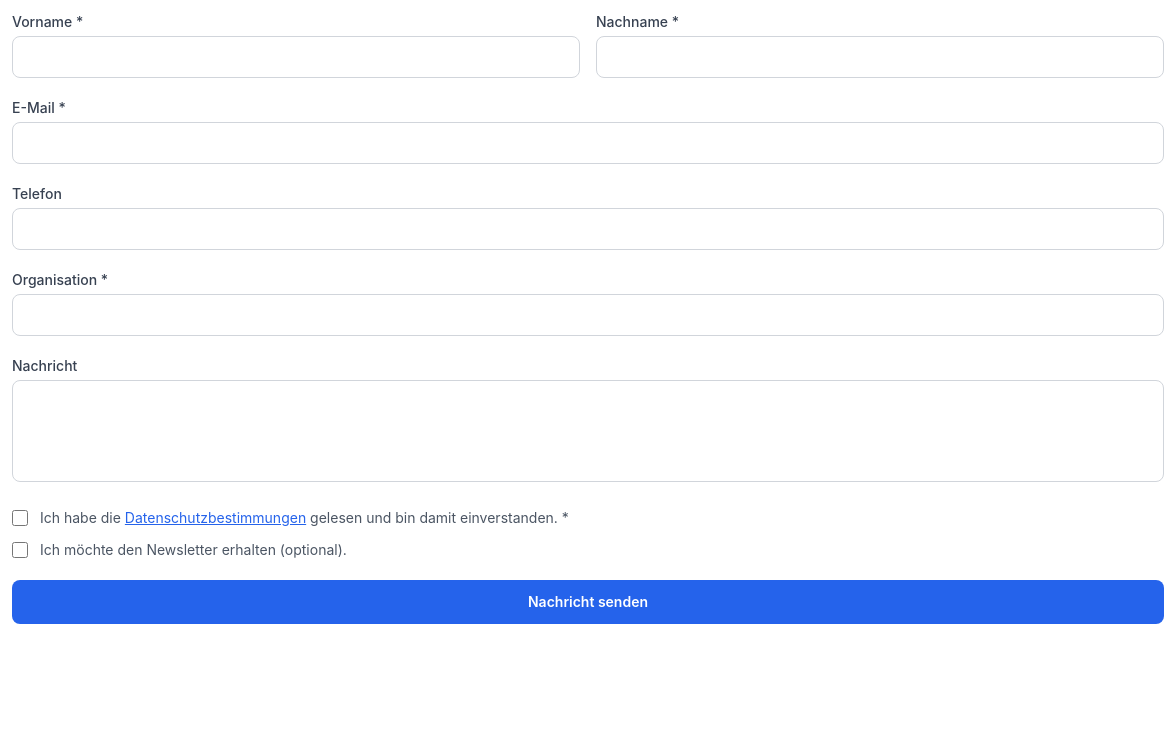
ContactForm › shows error when DSGVO checkbox is not checked
The image size is (1176, 732).
Type "Max" into the field labelled "Vorname *" at (296, 57), box [12, 36, 580, 78]
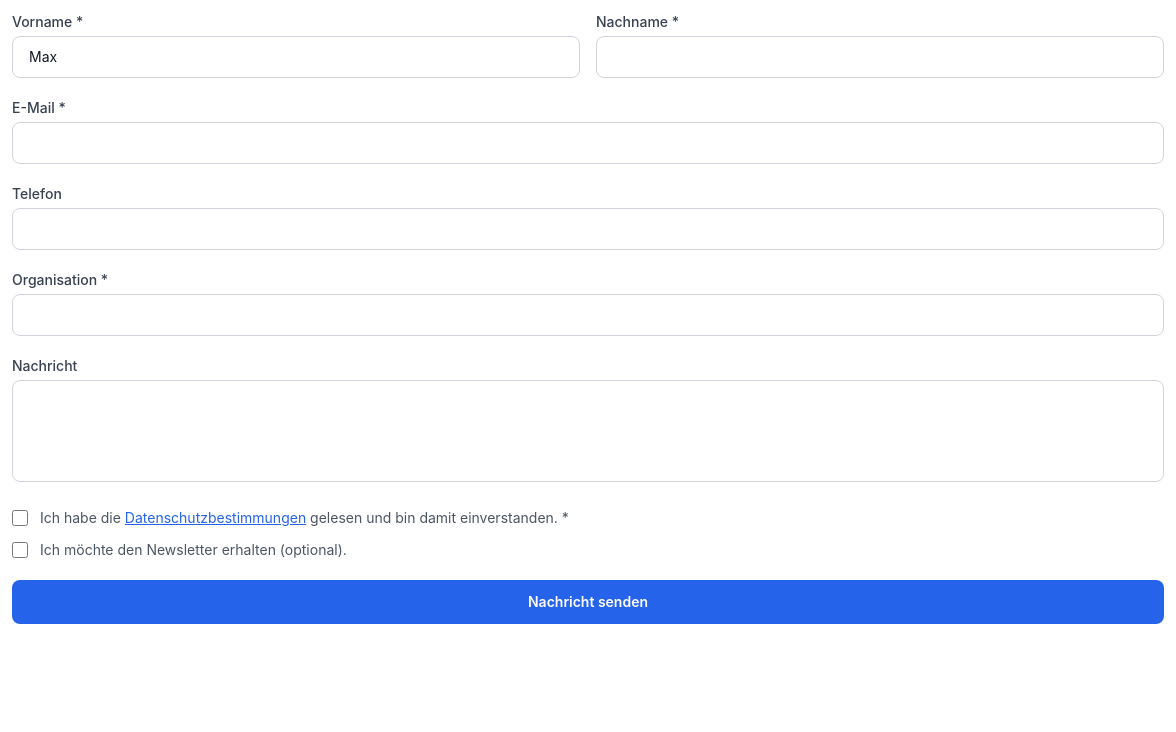
Type "Muster" into the field labelled "Nachname *" at (880, 57), box [596, 36, 1164, 78]
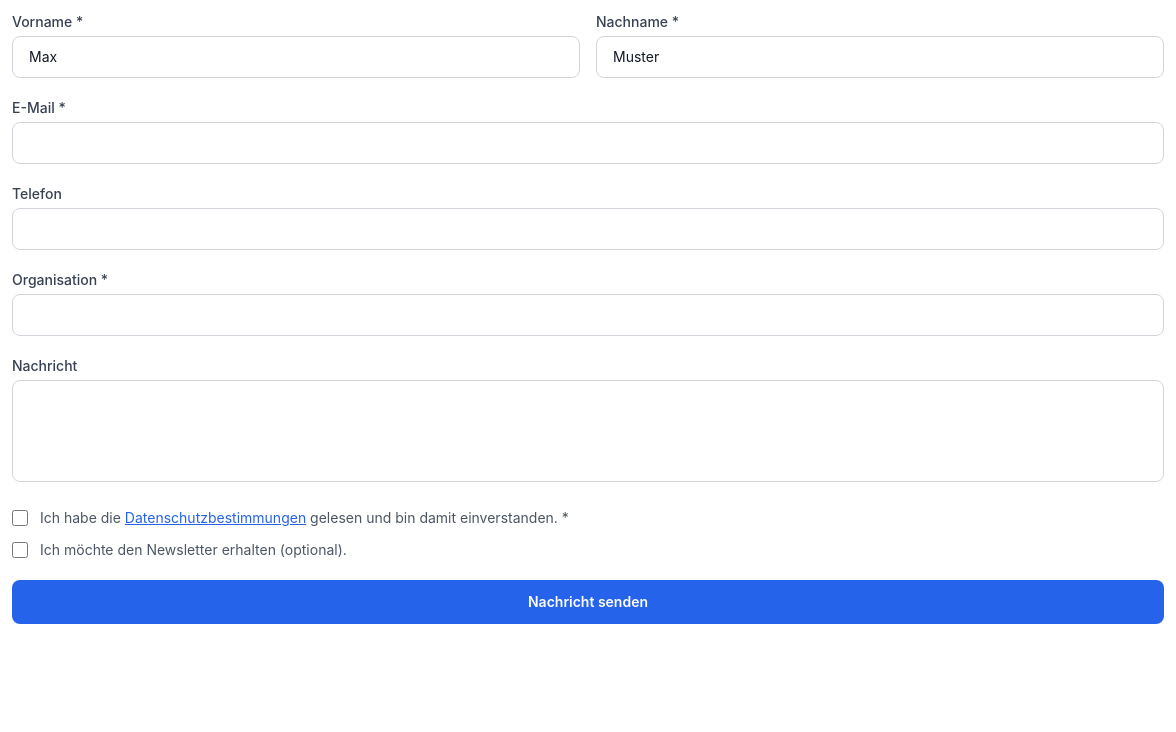
Type "max@test.de" into the field labelled "E-Mail *" at (588, 143), box [12, 122, 1164, 164]
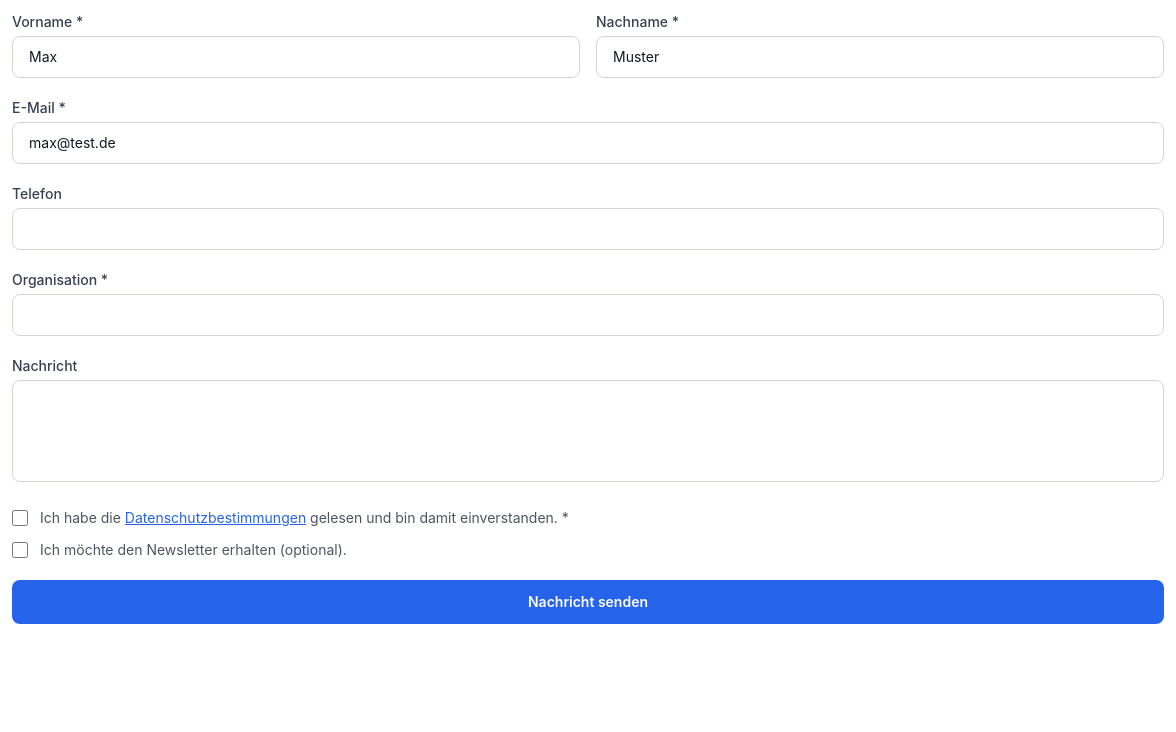
Type "Stadt" into the field labelled "Organisation *" at (588, 315), box [12, 294, 1164, 336]
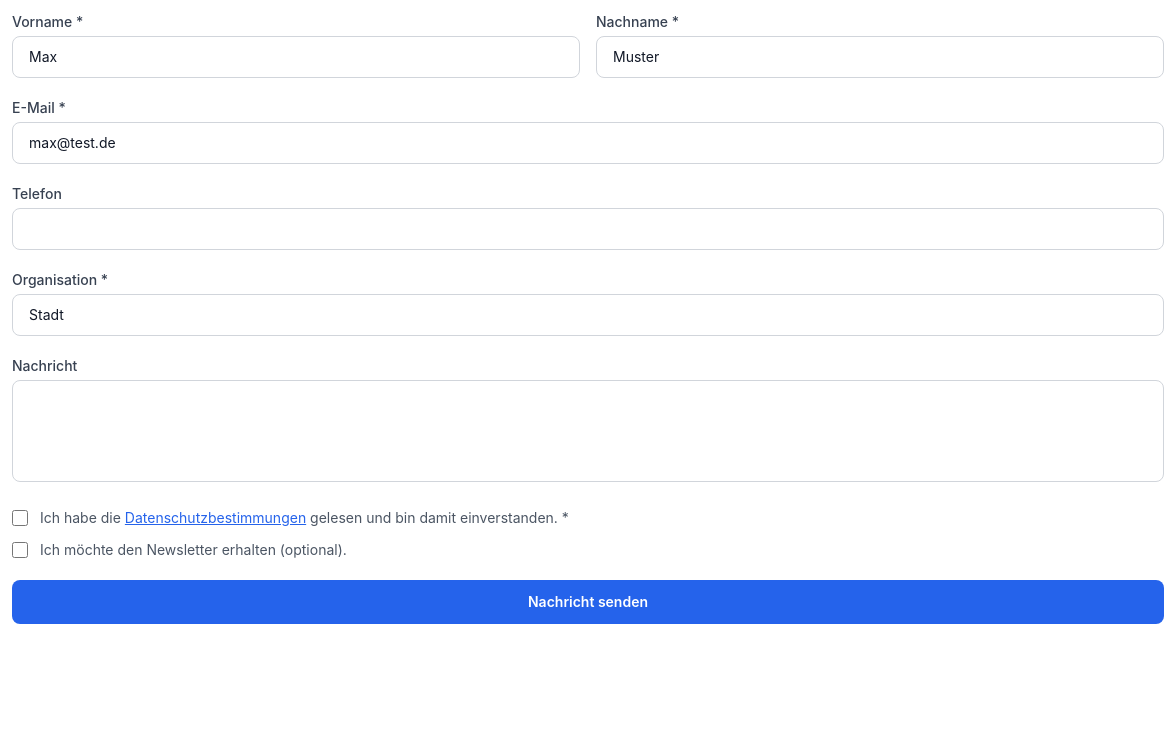
Click the button "Nachricht senden" at (588, 602), box [12, 580, 1164, 624]
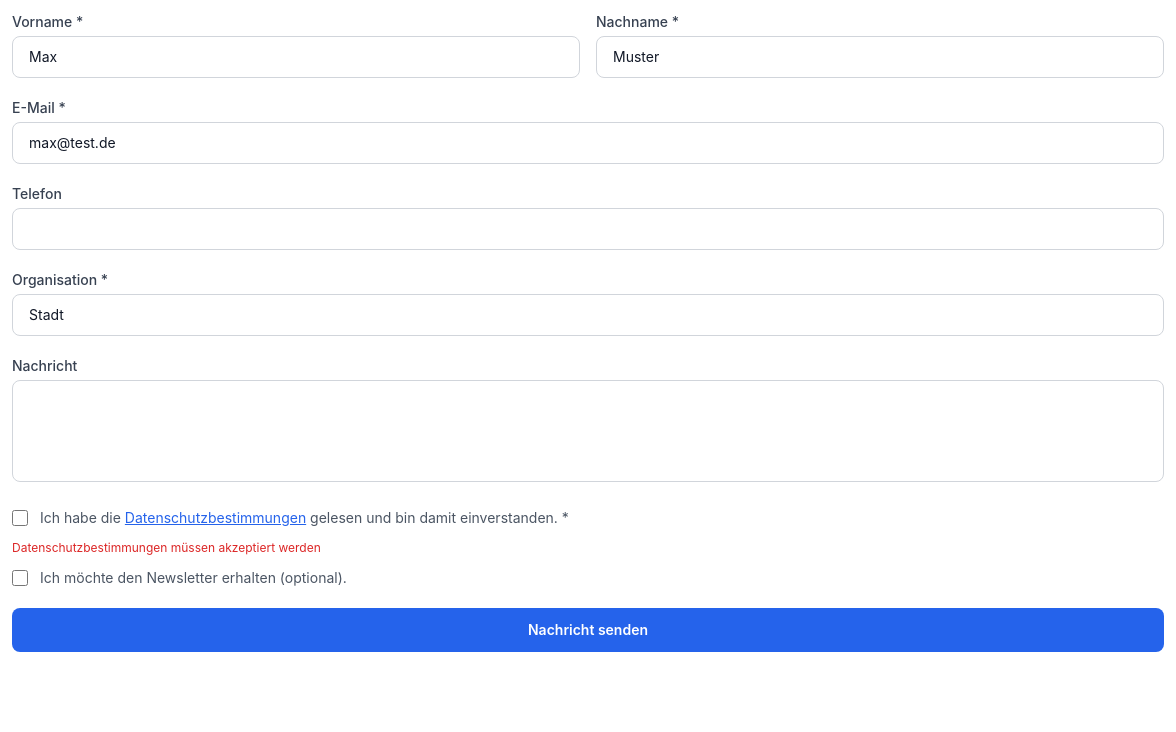
Expected: the text "Datenschutzbestimmungen müssen akzeptiert werden" is shown, [12, 540, 321, 555]
